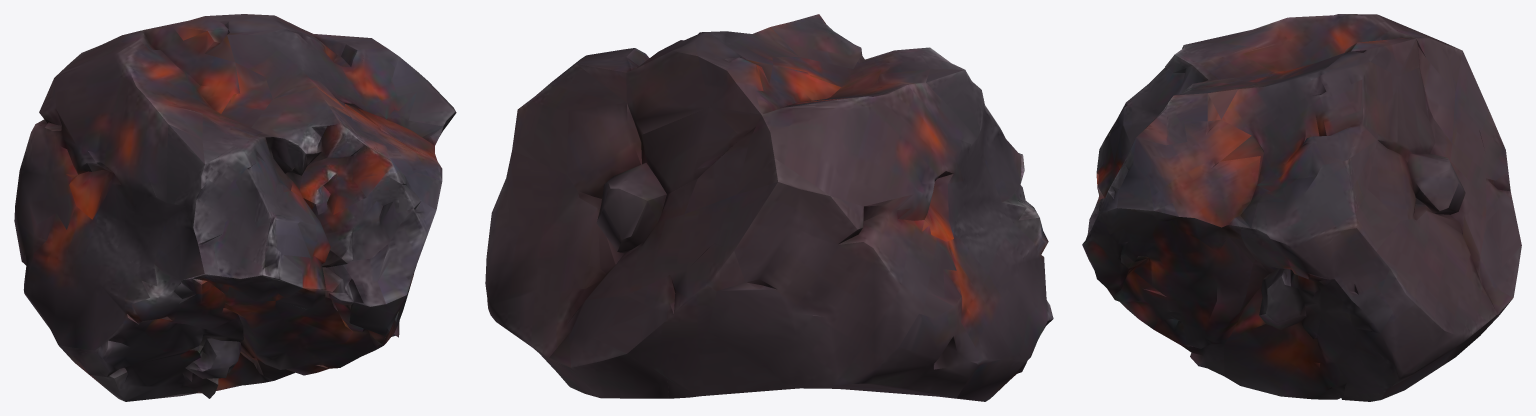
File: iron_ore_ruda_idle.glb
3 views of the same model, side by side, from view 1: azimuth 30°, elevation 25°; view 2: azimuth 150°, elevation 25°; view 3: azimuth 270°, elevation 25° (orthographic). The views are drawn at different scales.
Visible parts, largest first — view 1: tripo_node_bc457d12-0968-4ea0-a294-158bd97b7a4d; view 2: tripo_node_bc457d12-0968-4ea0-a294-158bd97b7a4d; view 3: tripo_node_bc457d12-0968-4ea0-a294-158bd97b7a4d.
Boxes of the visible parts, left/top/right/bottom form: tripo_node_bc457d12-0968-4ea0-a294-158bd97b7a4d: left=14, top=14, right=456, bottom=401; tripo_node_bc457d12-0968-4ea0-a294-158bd97b7a4d: left=485, top=14, right=1053, bottom=401; tripo_node_bc457d12-0968-4ea0-a294-158bd97b7a4d: left=1082, top=14, right=1521, bottom=401.
Bounding box in the file's own units: 0.1626 × 0.1202 × 0.1563.
Materials: 1 (1 with a texture image).
